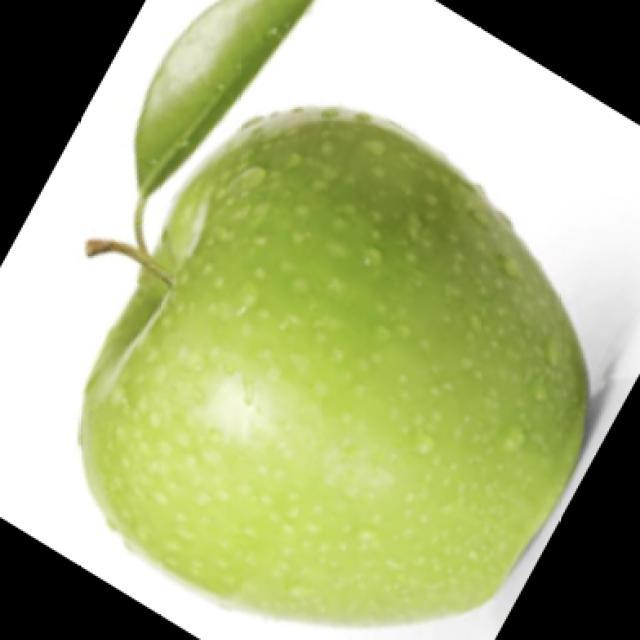Fresh Apple: (110, 125, 605, 635)
